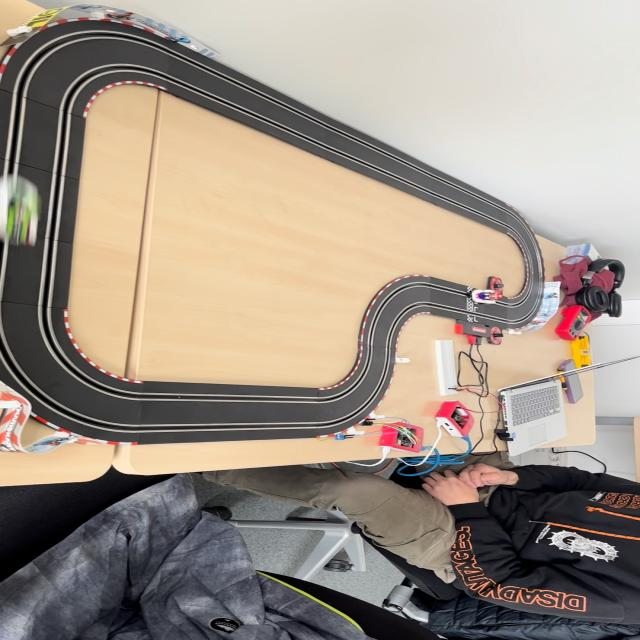mario: (466, 288, 506, 306)
yoshi: (0, 171, 46, 249)
